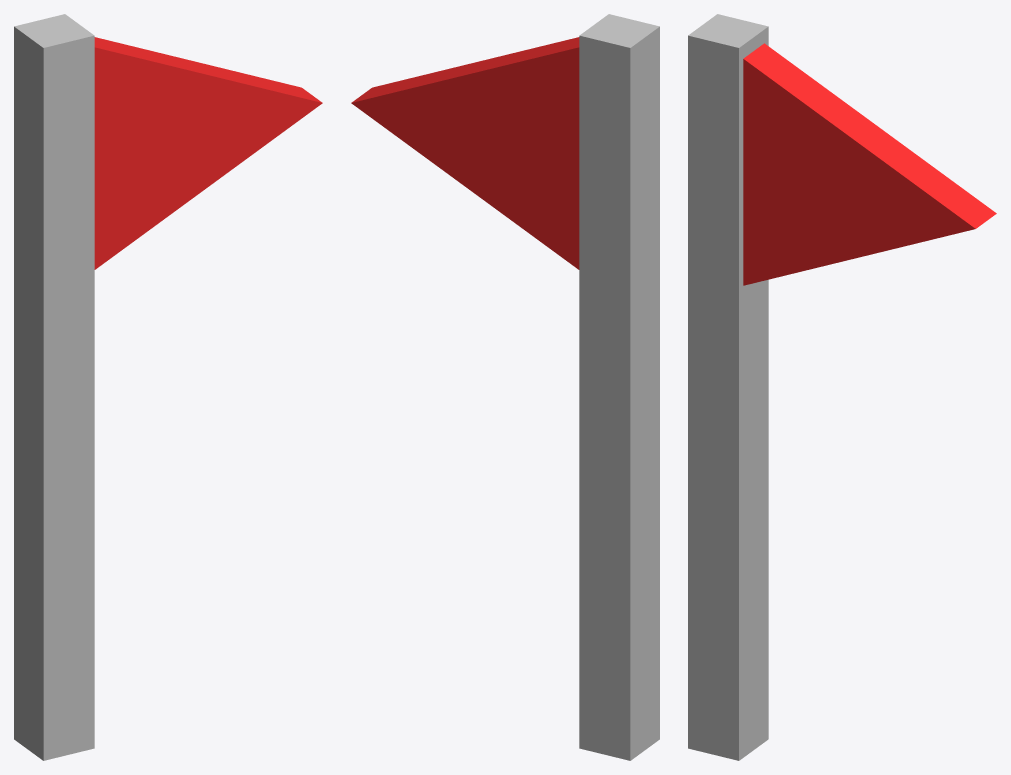
The model's file is flag.fbx.
3 renders of one model, left to right at view 1: azimuth 30°, elevation 25°; view 2: azimuth 150°, elevation 25°; view 3: azimuth 330°, elevation 25°, orthographic.
Parts seen in each view (by area): view 1: Cube, Cube.001; view 2: Cube, Cube.001; view 3: Cube, Cube.001.
Boxes of the visible parts, x1,y1,x2,y2 form: Cube: (14,14,94,760); Cube.001: (94,37,322,269); Cube: (579,14,659,760); Cube.001: (351,37,579,269); Cube: (688,14,768,760); Cube.001: (743,43,996,285).
Bounding box in the file's own units: 66.62 × 160 × 12.
